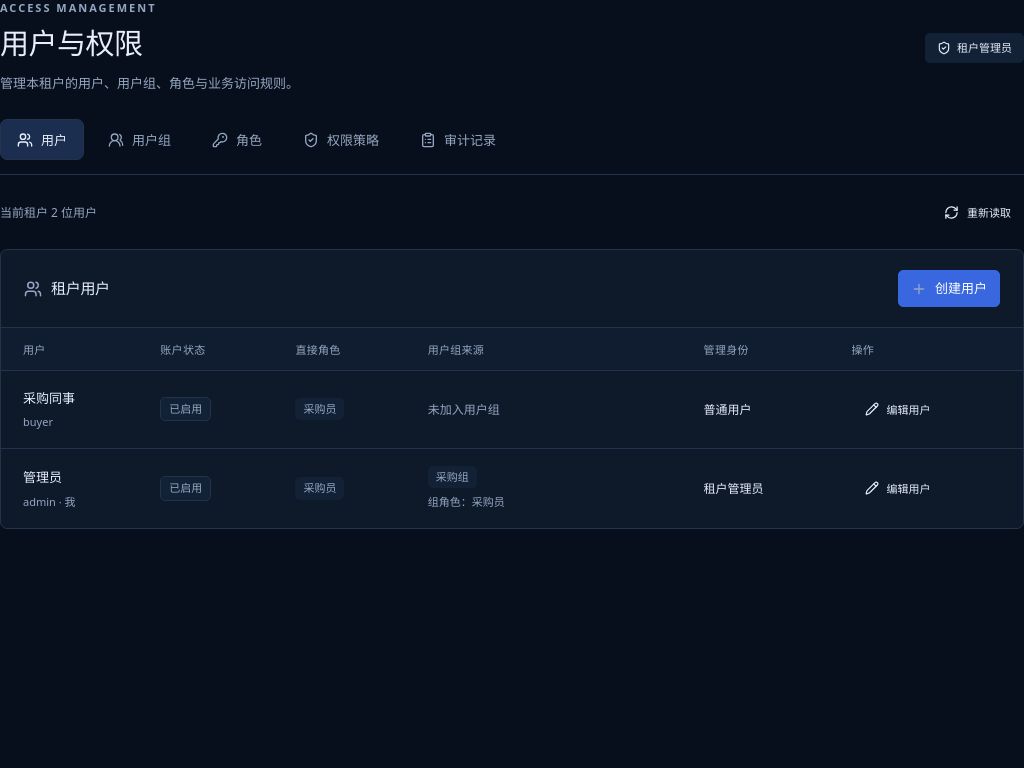
it: tenant user groups › rechecks the current session when removing the administrator from a group
Expected: the text "采购同事" is shown, x1=23 y1=389 x2=75 y2=407
Click the tab "用户组". click: (140, 140)
box: x1=91 y1=119 x2=188 y2=160
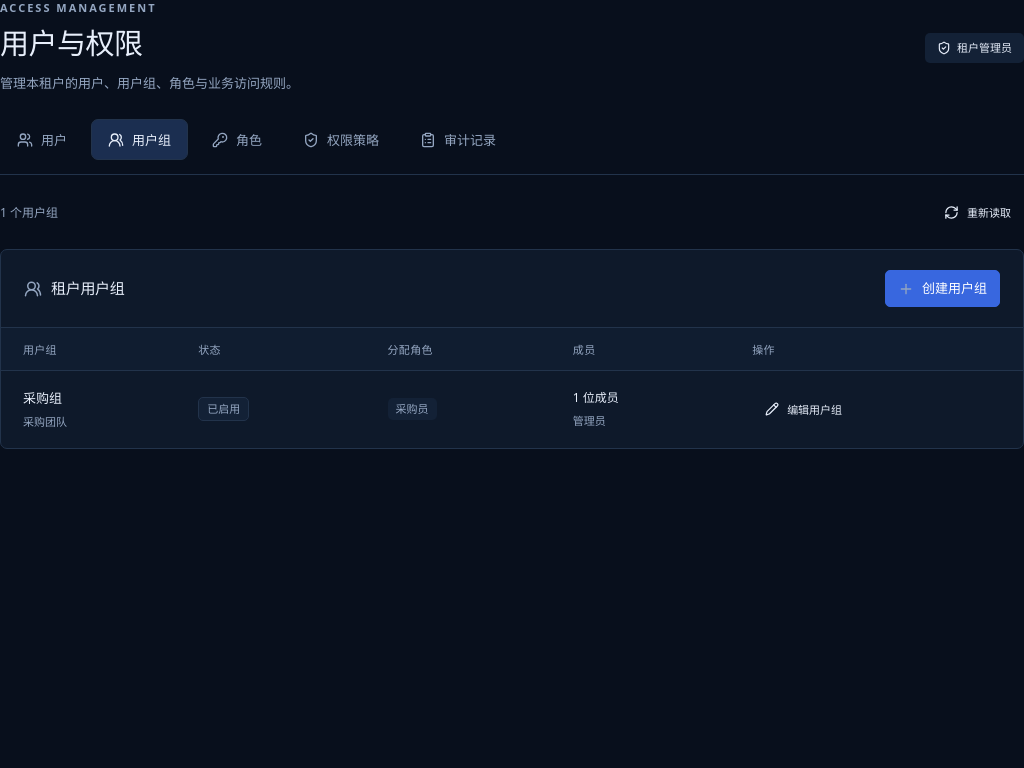
Click the button "编辑用户组". click: (804, 409)
box: x1=752 y1=392 x2=855 y2=426
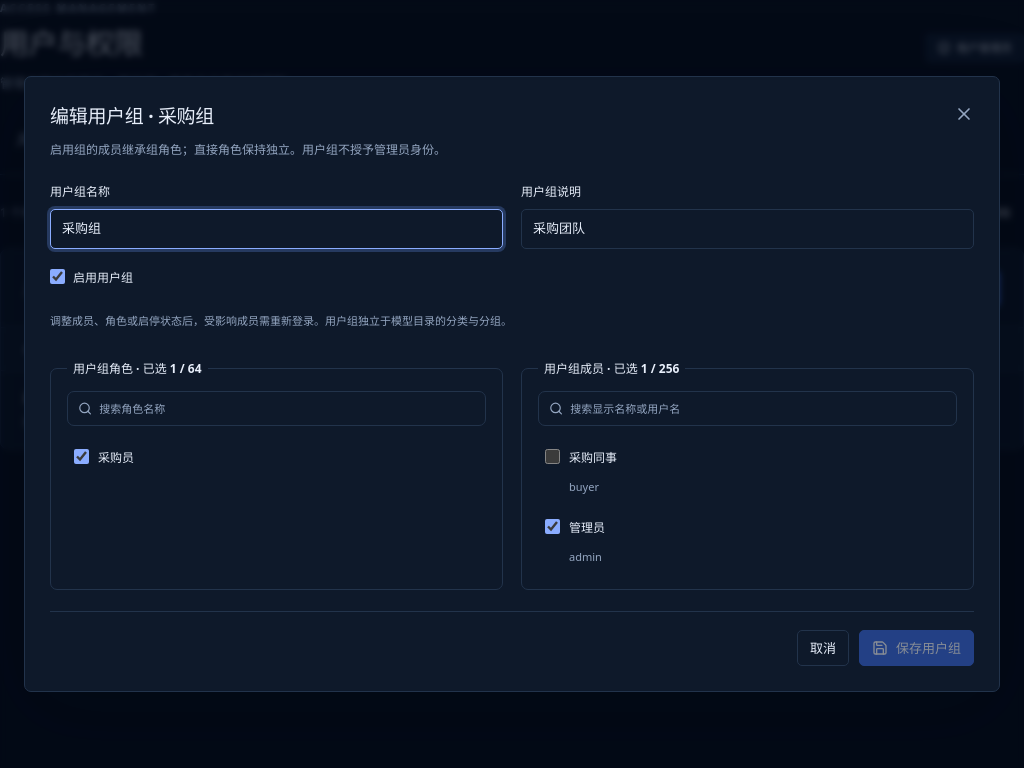
Click the checkbox labelled "管理员 admin". click: (552, 526)
box: x1=545 y1=519 x2=560 y2=534
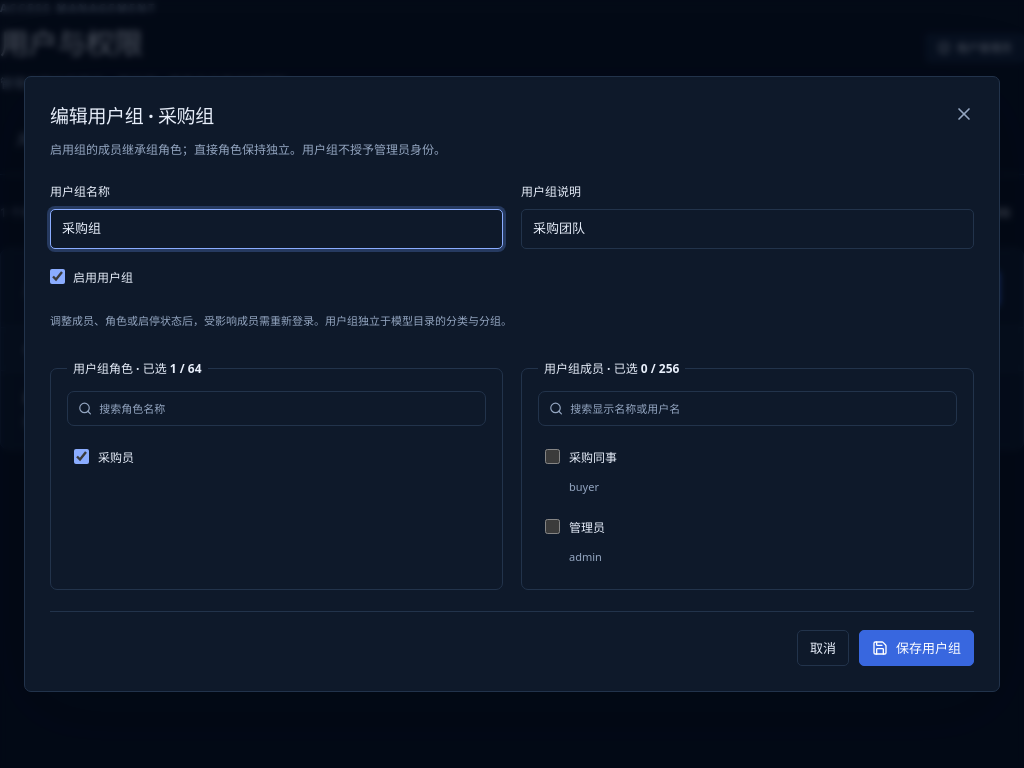
Click the button "保存用户组". click: (916, 648)
box: x1=859 y1=630 x2=974 y2=666
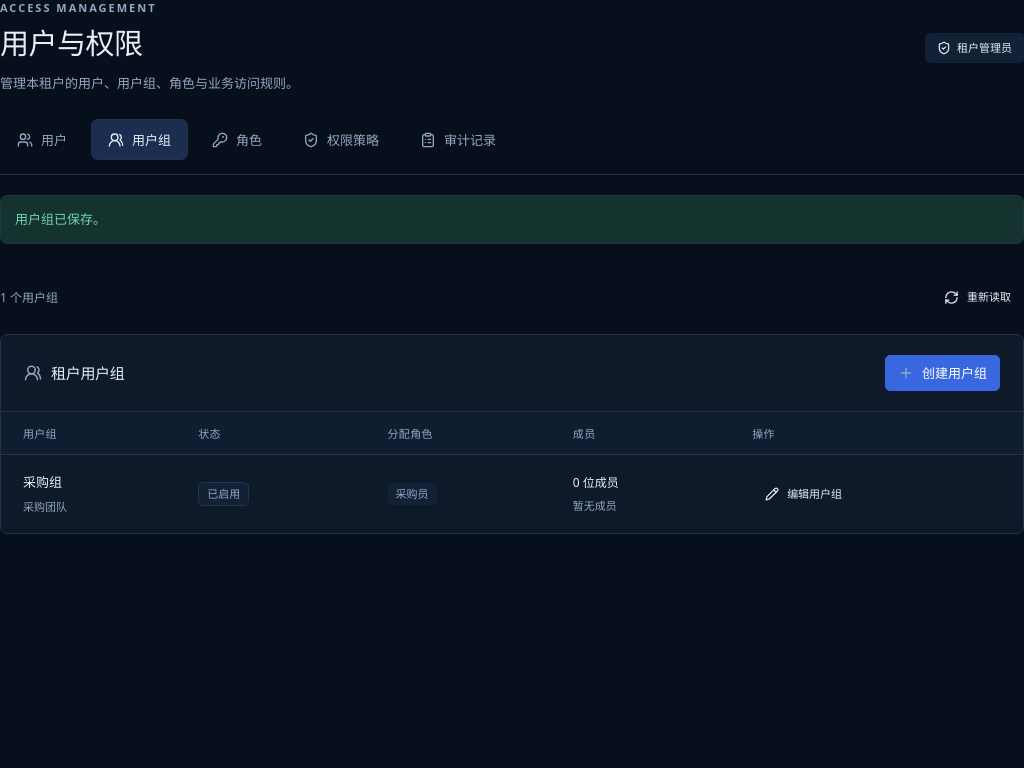
Now the dialog is gone
